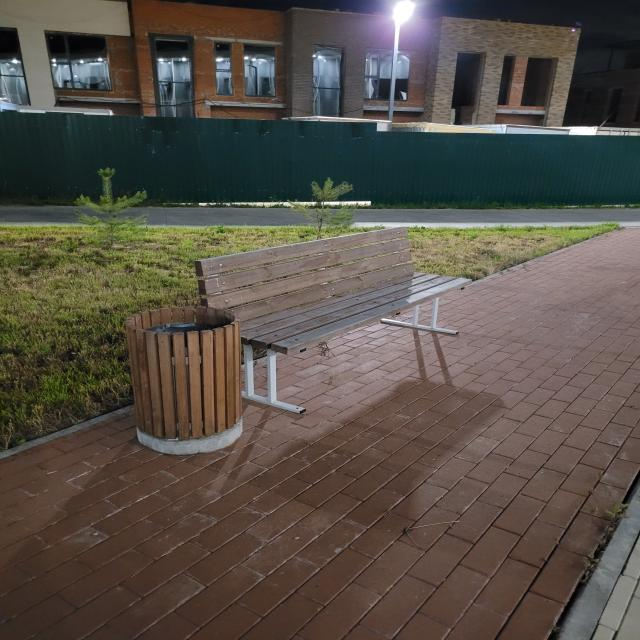Bench: (195, 226, 472, 414)
